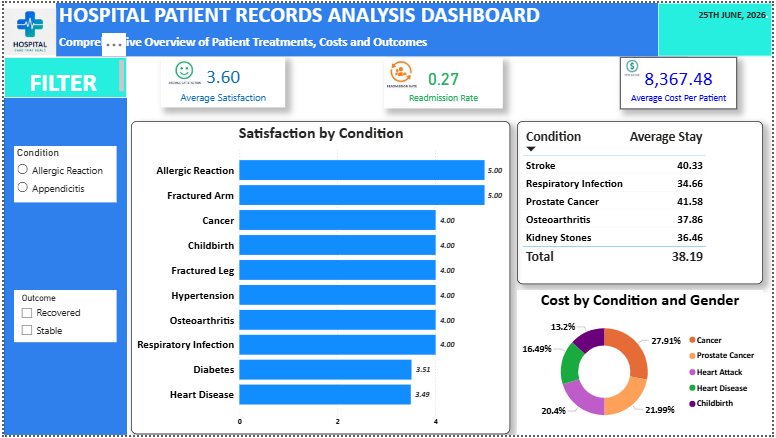

What the dashboard file says about the page in this screenshot:
{"tool":"powerbi","page":{"name":"Page 2","canvas":[1280,720],"ordinal":1},"visuals":[{"type":"textbox","box":[87.3,0,1053.2,89],"z":0},{"type":"card","fields":{"Values":["hospital data analysis.Average Satisfaction"]},"box":[262,90.7,207.2,84.2],"z":0,"group":"g1"},{"type":"card","fields":{"Values":["hospital data analysis.Readmission Rate"]},"box":[633.9,91.8,198.2,84],"z":1000,"group":"g1"},{"type":"tableEx","fields":{"Values":["hospital data analysis.Condition","hospital data analysis.Average Stay"]},"box":[855,196.5,409.9,272.1],"z":1000},{"type":"card","fields":{"Values":["hospital data analysis.Average Cost Per Patient"]},"box":[1027.5,90.7,195.3,87.3],"z":2000,"group":"g1"},{"type":"barChart","title":"Satisfaction by Condition","fields":{"Category":["hospital data analysis.Condition"],"Y":["hospital data analysis.Average Satisfaction"]},"box":[211.7,196.5,631.6,522.4],"z":2000},{"type":"textbox","box":[1090.2,0,189.8,89],"z":3000},{"type":"image","box":[0,0,87.3,95.7],"z":4000},{"type":"donutChart","title":"Cost by Condition and Gender","fields":{"Category":["hospital data analysis.Condition"],"Series":["hospital data analysis.Gender"],"Y":["Sum(hospital data analysis.Cost)"]},"box":[855,478.7,409.9,240.2],"z":5000},{"type":"shape","box":[0,91.5,204.5,628.5],"z":6000},{"type":"listSlicer","fields":{"Values":["hospital data analysis.Condition"]},"box":[16.8,238.5,171.3,94.1],"z":7000},{"type":"slicer","fields":{"Values":["hospital data analysis.Outcome"]},"box":[16.8,478.7,171.3,87.3],"z":8000},{"type":"textbox","box":[0,90.7,204.9,67.3],"z":9000},{"type":"group","id":"g1","title":"Group 1","box":[262,90.7,960.8,87.3],"z":10000},{"type":"image","box":[262,90.7,77.3,55.4],"z":11000},{"type":"image","box":[633.3,95.7,57.1,50.4],"z":12000},{"type":"image","box":[1014.6,94.1,65.5,28.6],"z":13000}]}

Visuals, with their boxes in screenshot pixels (x1, y1, x2, y2), scaled from the page's 1280x720 canvas onto the 776x438 screenshot:
textbox: [x1=53, y1=0, x2=691, y2=54]
card - hospital data analysis.Average Satisfaction: [x1=159, y1=55, x2=284, y2=106]
card - hospital data analysis.Readmission Rate: [x1=384, y1=56, x2=504, y2=107]
tableEx - hospital data analysis.Condition x hospital data analysis.Average Stay: [x1=518, y1=120, x2=767, y2=285]
card - hospital data analysis.Average Cost Per Patient: [x1=623, y1=55, x2=741, y2=108]
"Satisfaction by Condition" barChart: [x1=128, y1=120, x2=511, y2=437]
textbox: [x1=661, y1=0, x2=775, y2=54]
image: [x1=0, y1=0, x2=53, y2=58]
"Cost by Condition and Gender" donutChart: [x1=518, y1=291, x2=767, y2=437]
shape: [x1=0, y1=56, x2=124, y2=437]
listSlicer - hospital data analysis.Condition: [x1=10, y1=145, x2=114, y2=202]
slicer - hospital data analysis.Outcome: [x1=10, y1=291, x2=114, y2=344]
textbox: [x1=0, y1=55, x2=124, y2=96]
"Group 1" group: [x1=159, y1=55, x2=741, y2=108]
image: [x1=159, y1=55, x2=206, y2=89]
image: [x1=384, y1=58, x2=419, y2=89]
image: [x1=615, y1=57, x2=655, y2=75]
